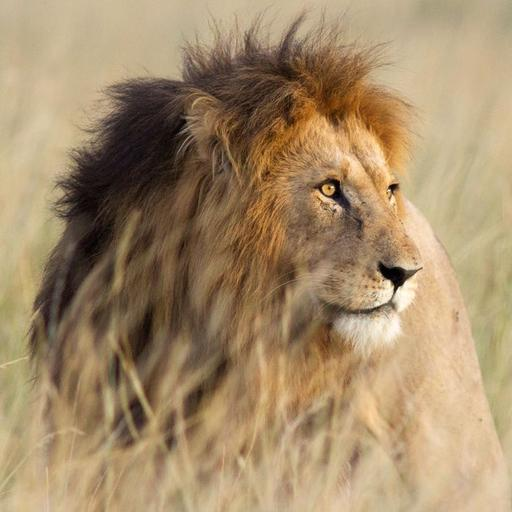Lion: (35, 12, 512, 512)
